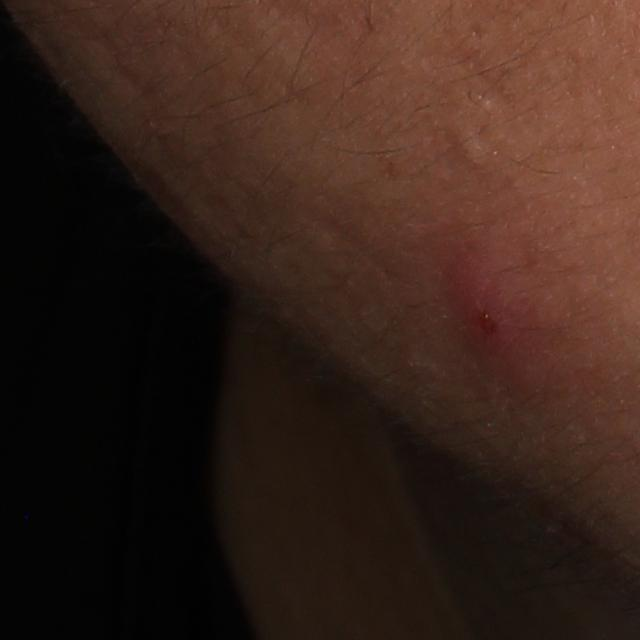comedo: (450, 121, 493, 171)
